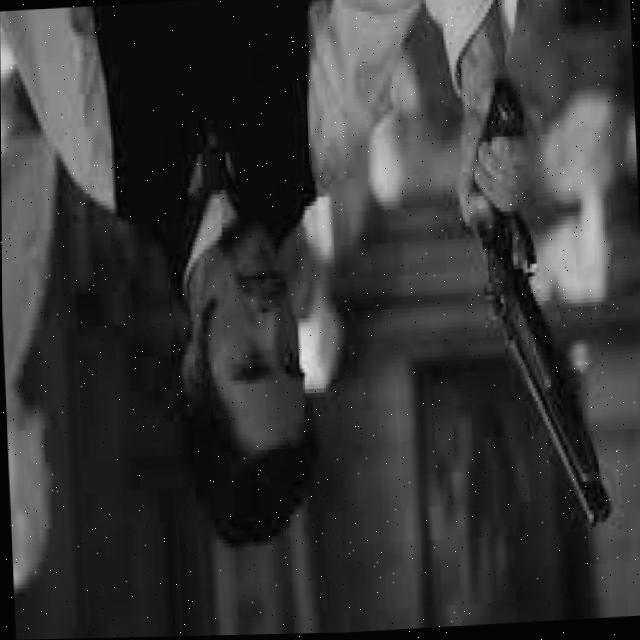firearm: (470, 85, 609, 536)
